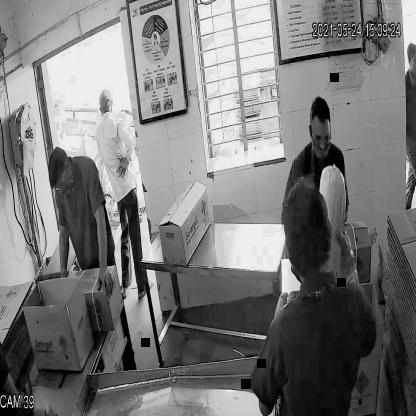goggles: (308, 127, 333, 150)
